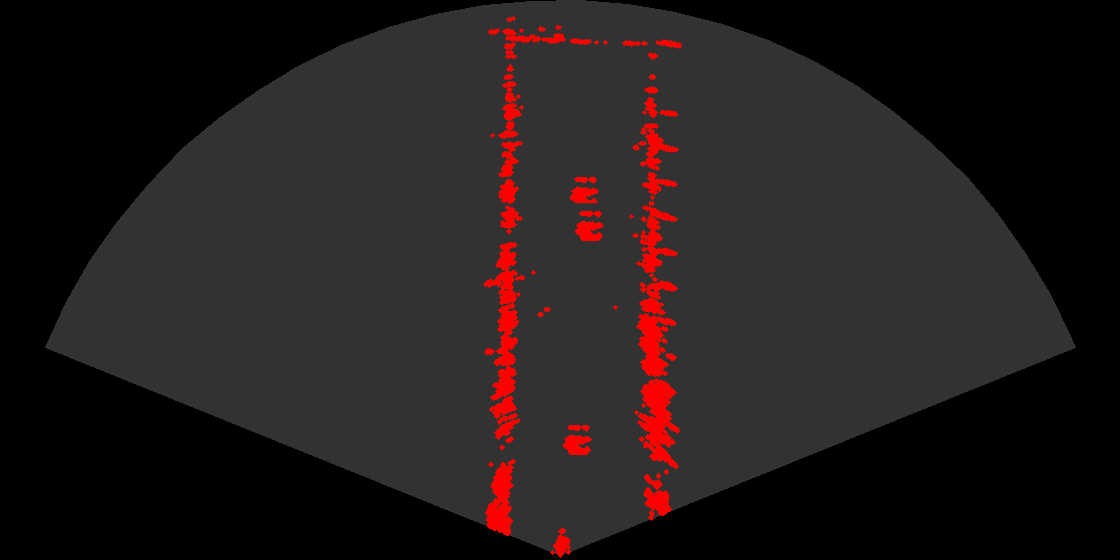ball: (550, 169, 610, 210), (543, 417, 603, 458), (555, 203, 615, 244)
